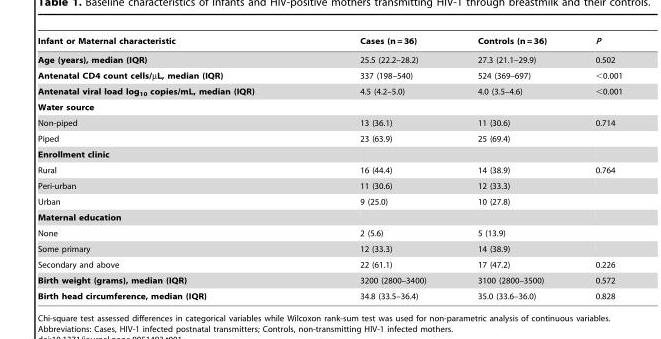table: (36, 36, 621, 300)
table column: (36, 36, 306, 300), (306, 36, 451, 300), (451, 36, 570, 300), (570, 36, 621, 300)
table column header: (36, 36, 621, 50)
table projected row header: (36, 146, 621, 162), (36, 209, 621, 225), (36, 99, 621, 114)
table row: (36, 66, 621, 83), (36, 50, 621, 66), (36, 83, 621, 99), (36, 114, 621, 130), (36, 130, 621, 146), (36, 146, 621, 162), (36, 177, 621, 193), (36, 193, 621, 209), (36, 209, 621, 225), (36, 240, 621, 256), (36, 256, 621, 272), (36, 272, 621, 288), (36, 99, 621, 114), (36, 162, 621, 177), (36, 225, 621, 240), (36, 36, 621, 50), (36, 288, 621, 300)
